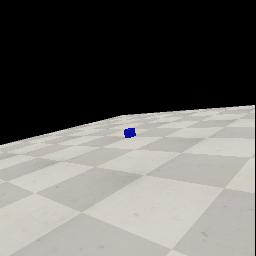box: (124, 128, 136, 138)
